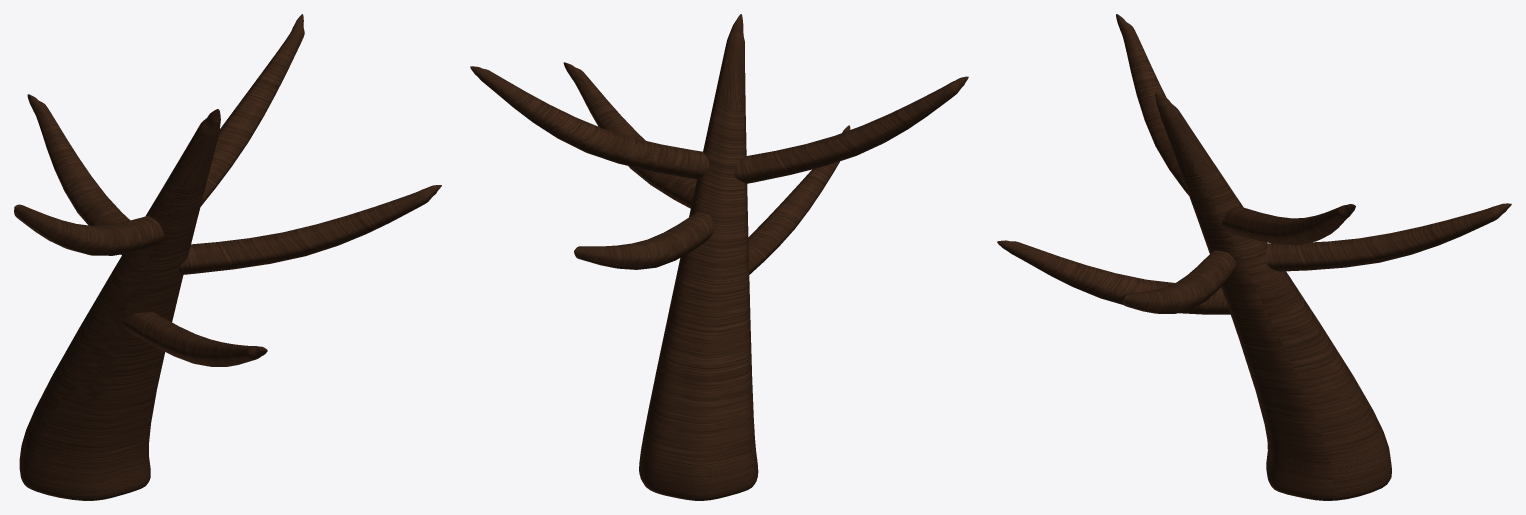
File: Jewerlydisplayed.fbx
3 views of the same model, side by side, from view 1: azimuth 30°, elevation 25°; view 2: azimuth 150°, elevation 25°; view 3: azimuth 270°, elevation 25° (orthographic). The views are drawn at different scales.
Visible parts, largest first — view 1: stand, stand5, stand7, stand3, stand6, stand4; view 2: stand, stand7, stand3, stand6, stand4, stand5; view 3: stand, stand6, stand4, stand7, stand5, stand3.
Boxes of the visible parts, x1,y1,x2,y2 form: stand: [19, 109, 220, 500]; stand5: [179, 185, 441, 274]; stand7: [200, 14, 304, 206]; stand3: [14, 204, 164, 255]; stand6: [27, 94, 130, 254]; stand4: [122, 312, 267, 366]; stand: [639, 14, 758, 500]; stand7: [470, 66, 708, 179]; stand3: [734, 76, 968, 183]; stand6: [574, 212, 713, 269]; stand4: [748, 125, 850, 274]; stand5: [563, 62, 696, 208]; stand: [1155, 92, 1391, 500]; stand6: [1265, 203, 1511, 271]; stand4: [997, 240, 1230, 314]; stand7: [1222, 204, 1355, 245]; stand5: [1121, 250, 1236, 313]; stand3: [1116, 14, 1188, 195].
Size of the model in its own units: 5.6 by 5.26 by 6.02.
